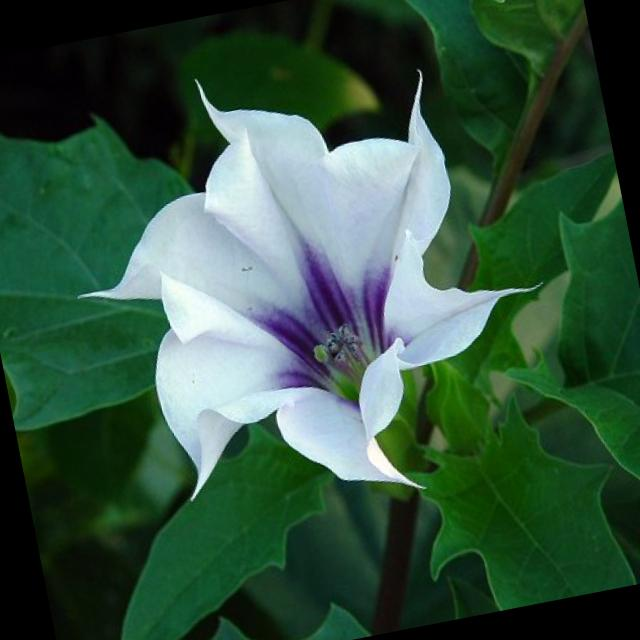Poisonous-Datura_Stramonium: (76, 28, 552, 560), (92, 379, 640, 640), (0, 100, 252, 496)
